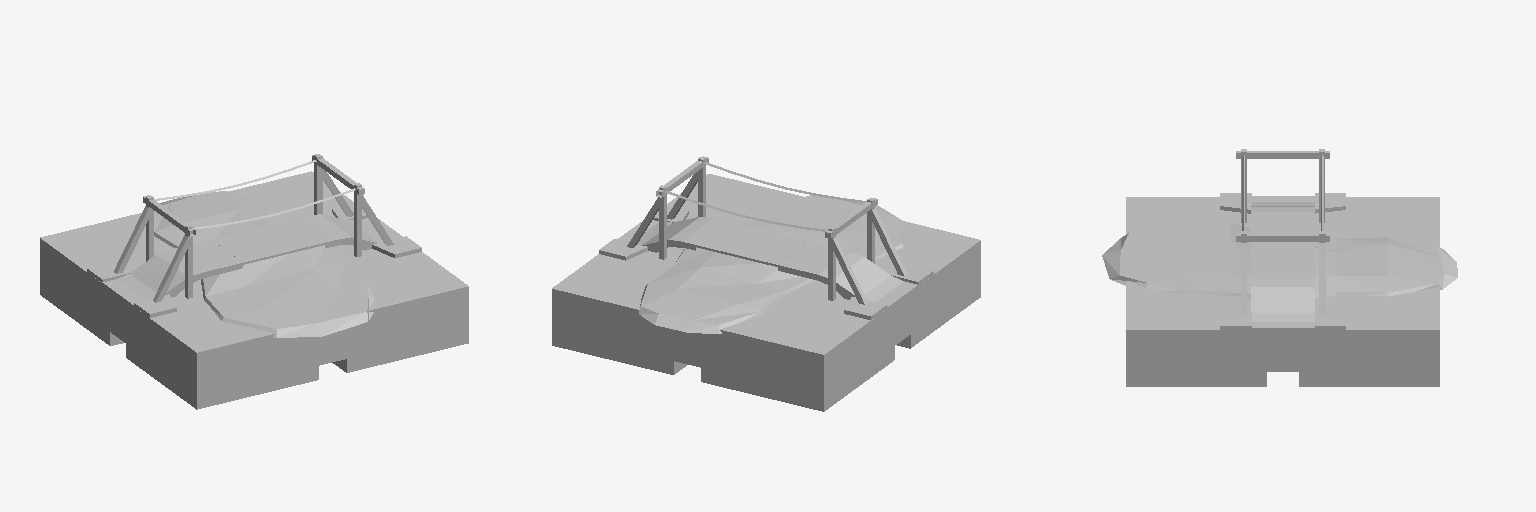
The model's file is puzzlePiece_bridge.obj.
3 views of the same model, side by side, from view 1: azimuth 30°, elevation 25°; view 2: azimuth 150°, elevation 25°; view 3: azimuth 270°, elevation 25° (orthographic).
Visible parts, largest first — view 1: pCube1, pCube10, polySurface4, pCube21, puzzlePiece_straight:polySurface2 puzzlePiece_straight:pCube5, pCube16, pCube22; view 2: pCube1, pCube10, polySurface4, pCube21, puzzlePiece_straight:polySurface2 puzzlePiece_straight:pCube5, pCube16, pCube22; view 3: pCube1, pCube10, polySurface4, pCube21, pCube16, puzzlePiece_straight:polySurface2 puzzlePiece_straight:pCube5.
Boxes of the visible parts, x1=… form: pCube1: x1=40, y1=171, x2=468, y2=409; pCube10: x1=154, y1=191, x2=373, y2=337; polySurface4: x1=102, y1=214, x2=402, y2=307; pCube21: x1=114, y1=154, x2=393, y2=302; puzzlePiece_straight:polySurface2 puzzlePiece_straight:pCube5: x1=211, y1=220, x2=324, y2=264; pCube16: x1=87, y1=203, x2=421, y2=317; pCube22: x1=154, y1=160, x2=355, y2=229; pCube1: x1=552, y1=174, x2=980, y2=411; pCube10: x1=639, y1=195, x2=903, y2=333; polySurface4: x1=618, y1=217, x2=917, y2=308; pCube21: x1=627, y1=156, x2=906, y2=304; puzzlePiece_straight:polySurface2 puzzlePiece_straight:pCube5: x1=696, y1=222, x2=808, y2=266; pCube16: x1=599, y1=205, x2=933, y2=319; pCube22: x1=665, y1=162, x2=866, y2=231; pCube1: x1=1126, y1=197, x2=1439, y2=386; pCube10: x1=1102, y1=220, x2=1457, y2=297; polySurface4: x1=1251, y1=196, x2=1314, y2=330; pCube21: x1=1236, y1=149, x2=1329, y2=316; pCube16: x1=1220, y1=193, x2=1345, y2=333; puzzlePiece_straight:polySurface2 puzzlePiece_straight:pCube5: x1=1251, y1=232, x2=1314, y2=271.
Bounding box in the file's own units: 0.5 × 0.225 × 0.5662.